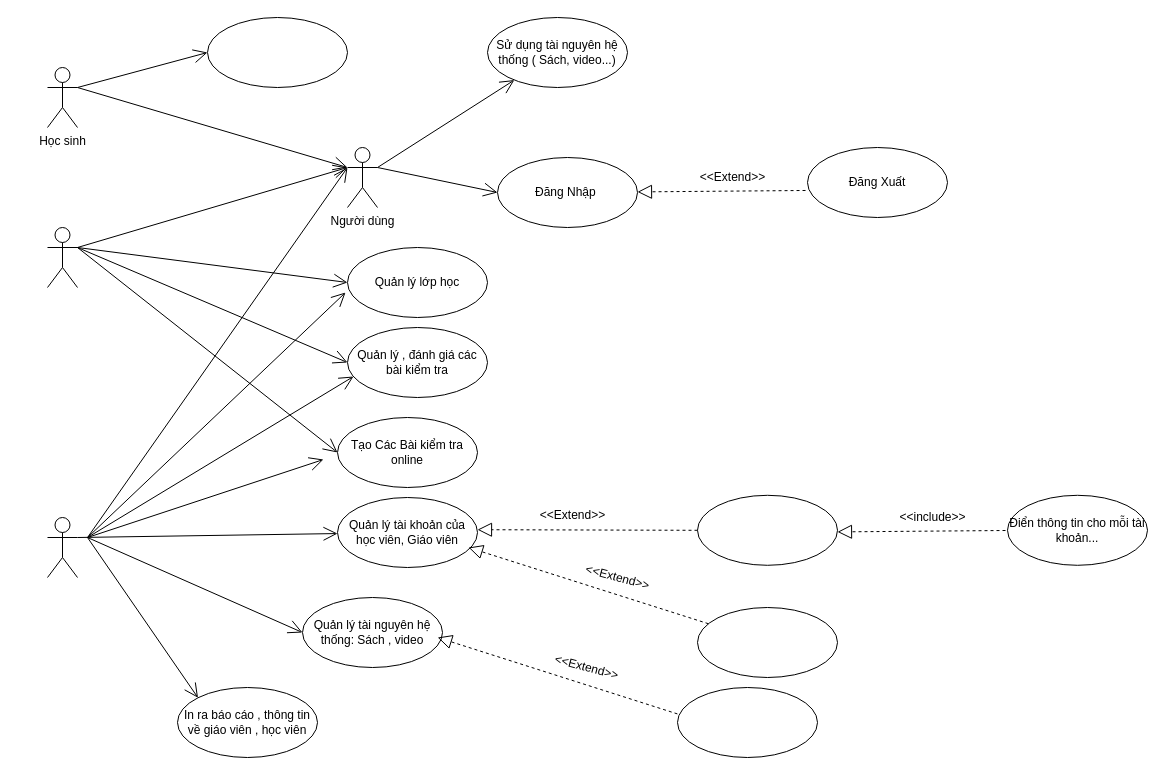
Image size: 1165x775. Some labels were removed from this diagram. The centre of each missing label's shape, as x and y in pixels:
"Giáo viên" goes at (62,257).
"Làm bài kiểm tra trực tiếp." goes at (277,52).
"Quản lý hệ thống" goes at (62,547).
"Thêm , sửa xoá thông tin tài khoản" goes at (767,642).
"Thêm , sửa xoá video" goes at (747,722).
"Tạo tai khoản cho Giáo viên, học viên" goes at (767,529).
